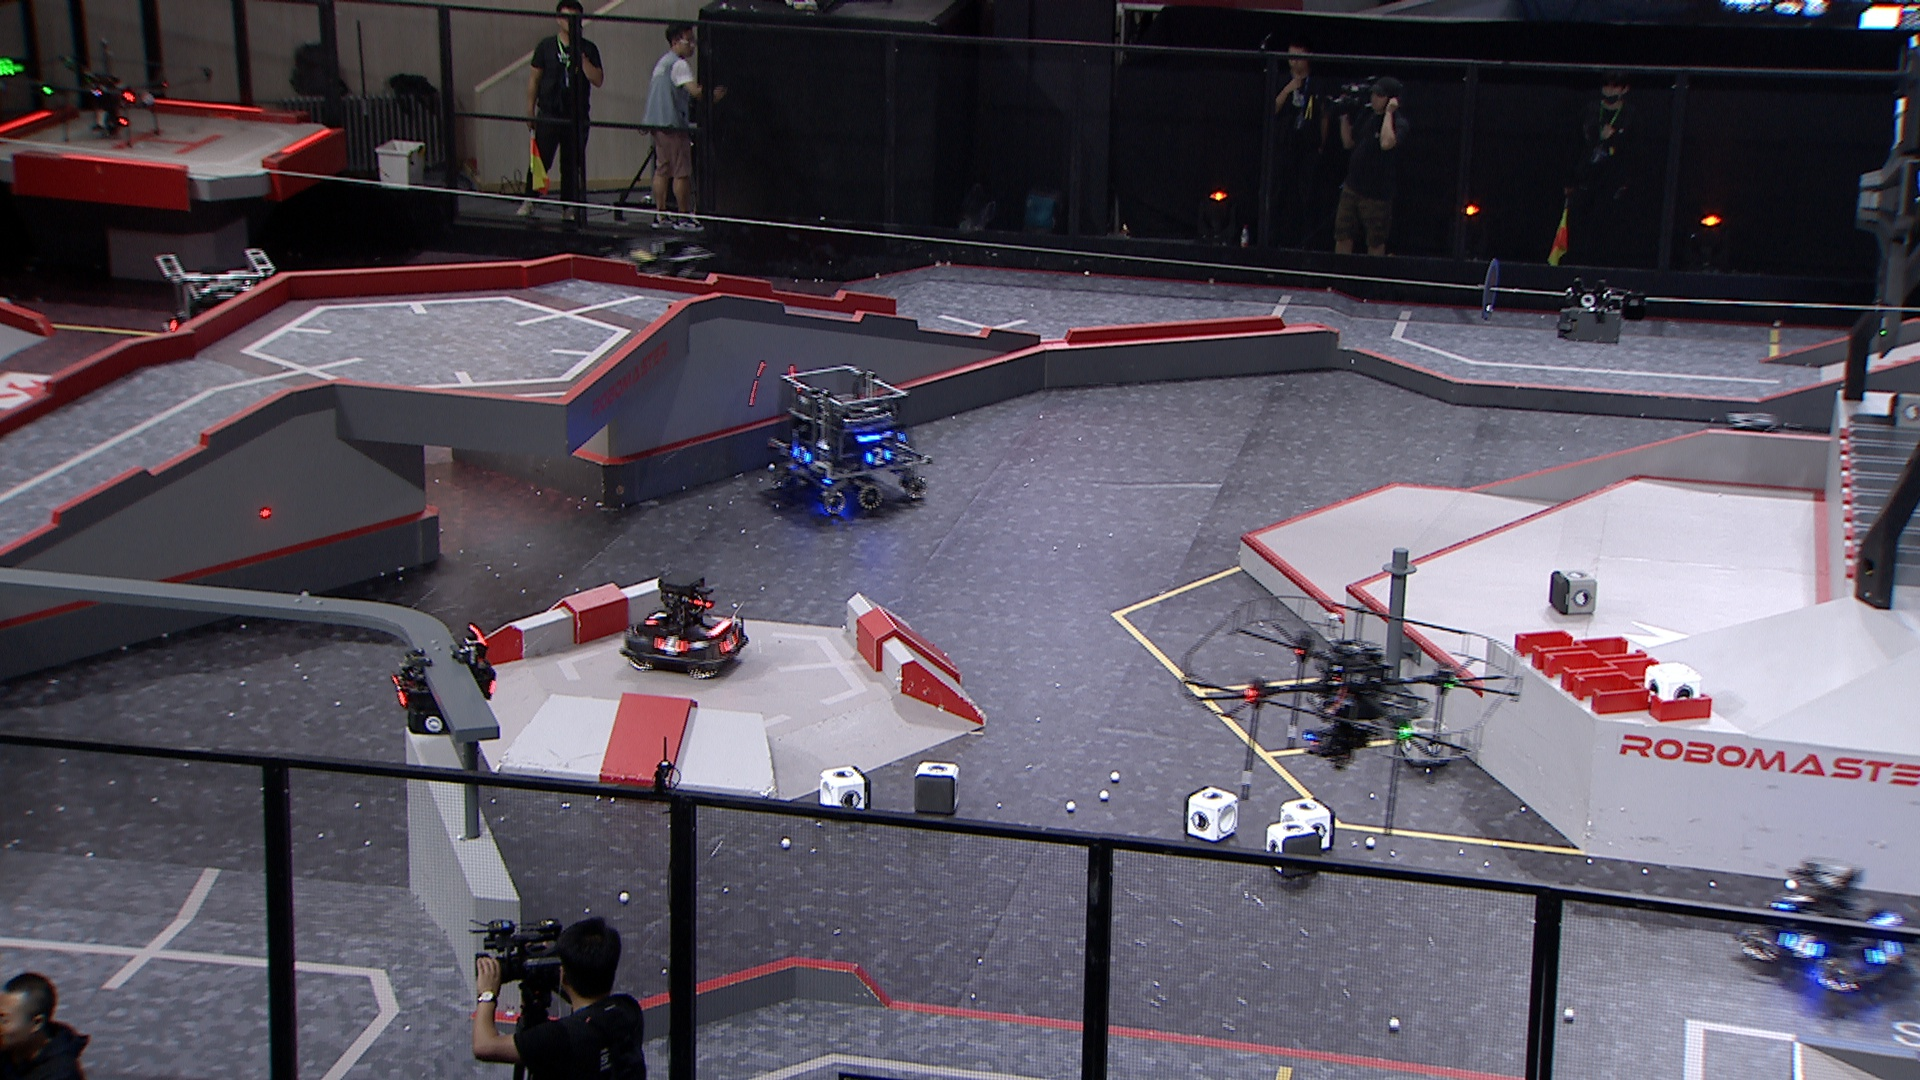armor: (1861, 935, 1905, 969), (1778, 930, 1826, 960), (1770, 889, 1812, 915), (651, 636, 688, 659), (389, 671, 411, 709), (716, 629, 741, 655), (789, 446, 816, 467), (865, 447, 891, 467), (641, 609, 667, 626)
car: (757, 363, 934, 516), (1731, 851, 1911, 992), (617, 567, 746, 683), (156, 247, 285, 357), (611, 223, 717, 316)
watcher: (386, 622, 496, 735)
